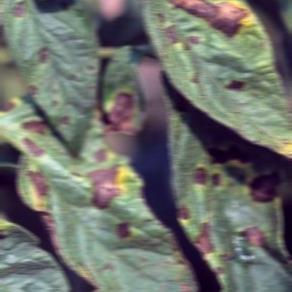Tomato Early blight leaf: (6, 115, 193, 292), (113, 0, 292, 164), (182, 99, 292, 292), (0, 0, 105, 164)
